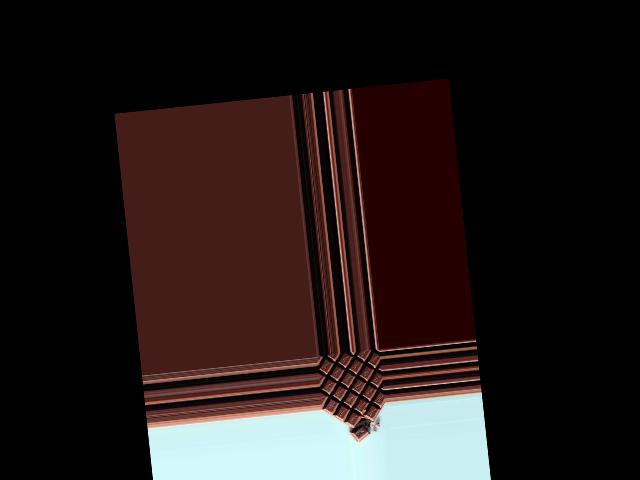chocolate: (318, 348, 386, 436)
